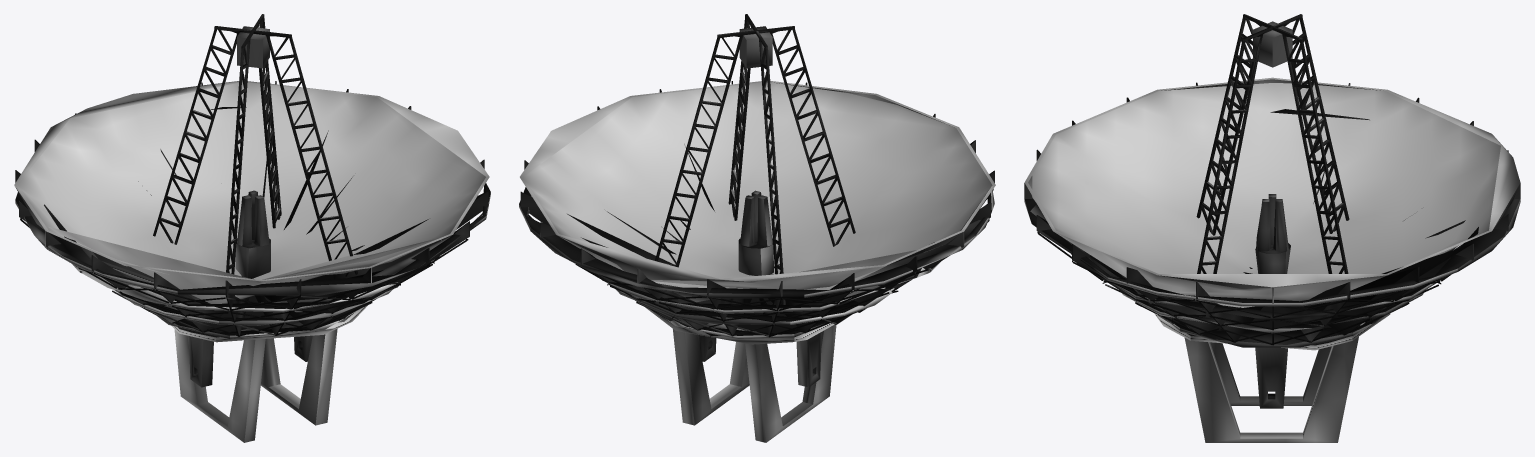
File: space-70-meter-dish.glb
The picture shows the model from 3 angles, left to right: view 1: azimuth 30°, elevation 25°; view 2: azimuth 150°, elevation 25°; view 3: azimuth 270°, elevation 25°; orthographic projection. The views are drawn at different scales.
Parts seen in each view (by area): view 1: 70m_rev_e.; view 2: 70m_rev_e.; view 3: 70m_rev_e..
Boxes of the visible parts, left/top/right/bottom form: 70m_rev_e.: left=14, top=14, right=490, bottom=442; 70m_rev_e.: left=519, top=14, right=995, bottom=442; 70m_rev_e.: left=1024, top=14, right=1520, bottom=442.
Size of the model in its own units: 91.31 by 80.19 by 91.32.
1 material, 1 textured.
